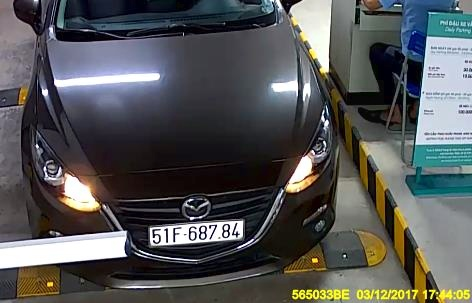plate: (142, 216, 248, 243)
